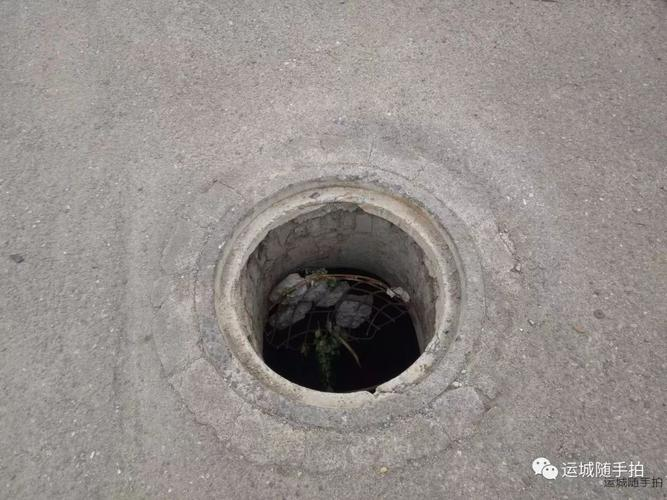lose: (173, 166, 494, 436)
